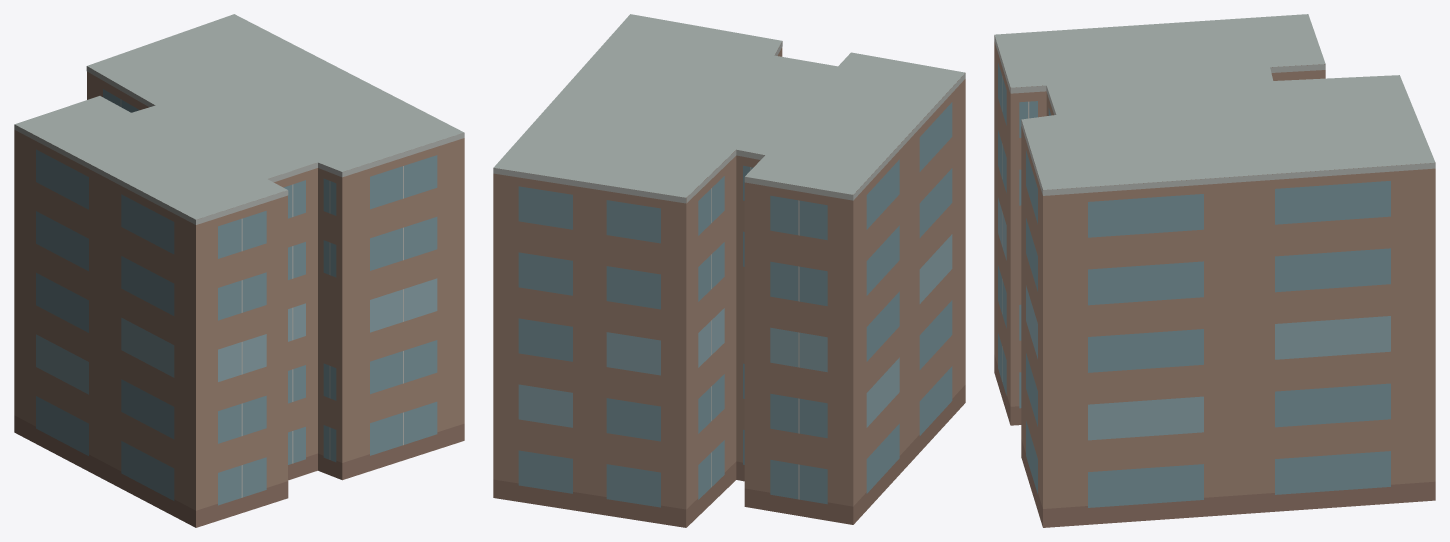
File: survey-upis-32576771.glb
3 views of the same model, side by side, from view 1: azimuth 30°, elevation 25°; view 2: azimuth 150°, elevation 25°; view 3: azimuth 270°, elevation 25° (orthographic). The views are drawn at different scales.
Visible parts, largest first — view 1: survey-upis-32576771.tmp; view 2: survey-upis-32576771.tmp; view 3: survey-upis-32576771.tmp.
Part boxes in pixels (left/top/right/bottom): survey-upis-32576771.tmp: left=14, top=14, right=464, bottom=527; survey-upis-32576771.tmp: left=493, top=14, right=965, bottom=527; survey-upis-32576771.tmp: left=994, top=14, right=1435, bottom=527.
Size of the model in its own units: 15.66 by 14 by 16.58.
